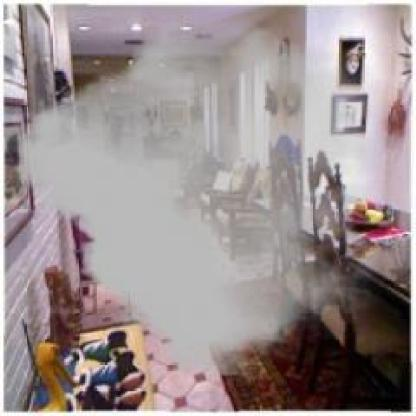Smoke: (17, 24, 382, 376)
